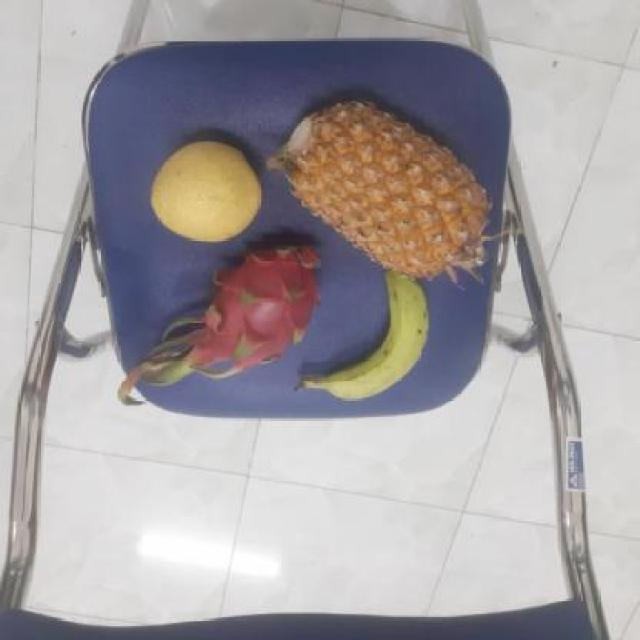banana: (308, 263, 437, 406)
dragon fruit: (173, 234, 325, 374)
pear: (149, 137, 269, 237)
pineapple: (278, 97, 492, 281)
